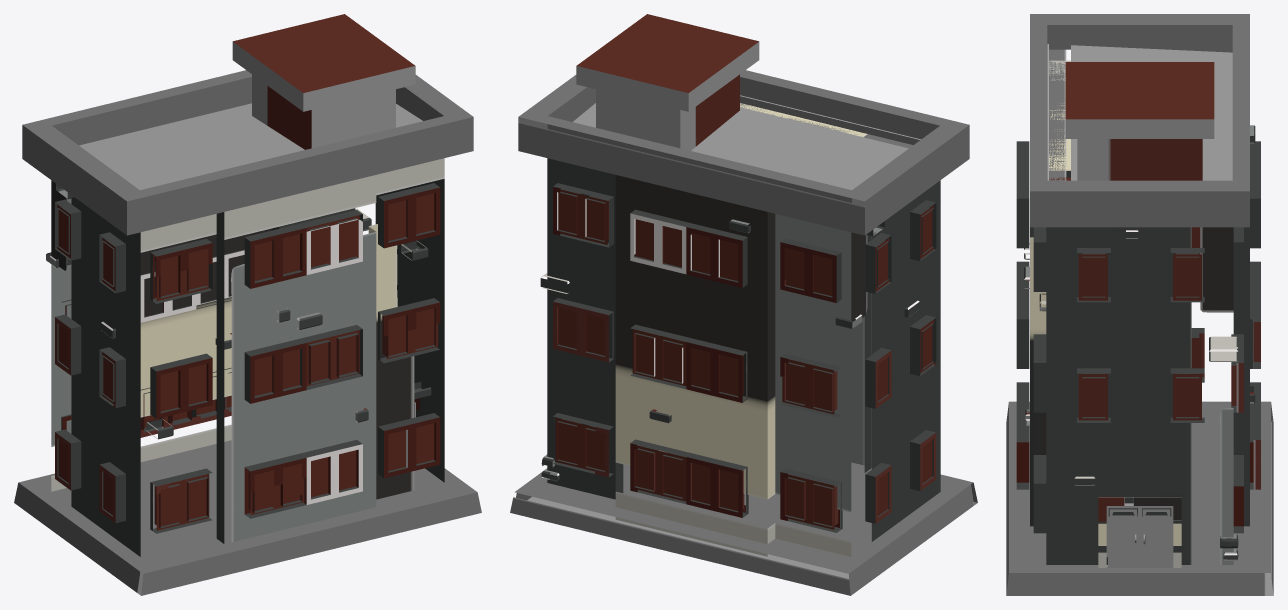
File: Dummy04.fbx
3 renders of one model, left to right at view 1: azimuth 30°, elevation 25°; view 2: azimuth 150°, elevation 25°; view 3: azimuth 270°, elevation 25°, orthographic. The views are drawn at different scales.
Parts seen in each view (by area): view 1: DummyBuilding; view 2: DummyBuilding; view 3: DummyBuilding.
Boxes of the visible parts, x1,y1,x2,y2 form: DummyBuilding: (14, 14, 481, 595); DummyBuilding: (510, 14, 977, 595); DummyBuilding: (1006, 14, 1273, 595).
Size of the model in its own units: 1131 by 1358 by 719.
